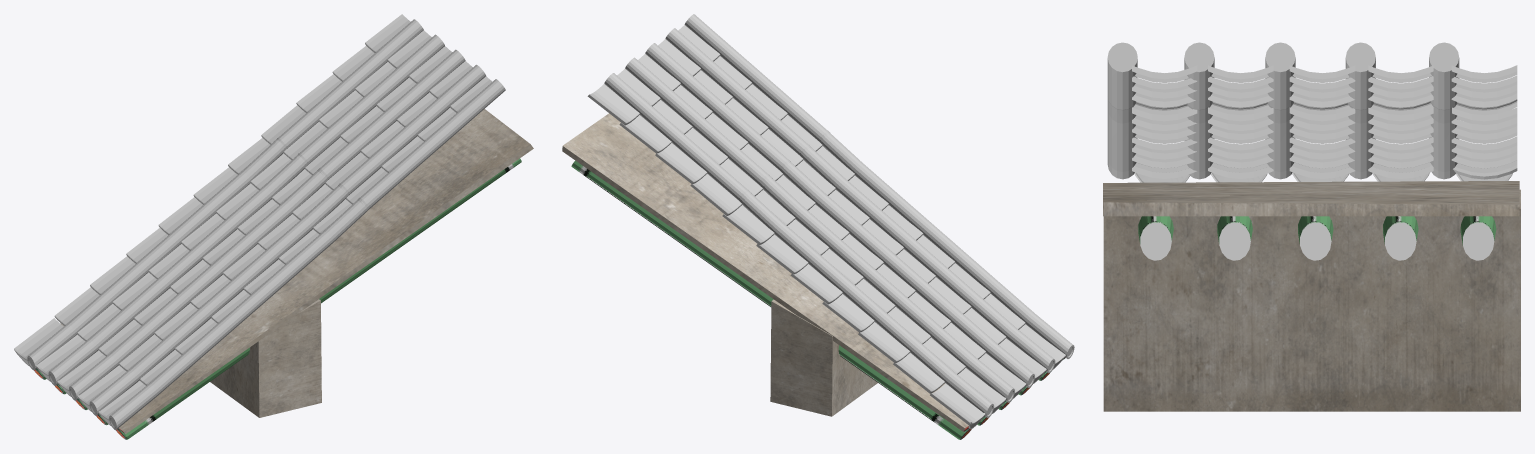
File: SM_Roof_18.fbx
3 renders of one model, left to right at view 1: azimuth 30°, elevation 25°; view 2: azimuth 150°, elevation 25°; view 3: azimuth 270°, elevation 25°, orthographic. The views are drawn at different scales.
Parts seen in each view (by area): view 1: SM_Roof_18; view 2: SM_Roof_18; view 3: SM_Roof_18.
Boxes of the visible parts, x1,y1,x2,y2 form: SM_Roof_18: [14, 14, 533, 439]; SM_Roof_18: [562, 14, 1074, 439]; SM_Roof_18: [1103, 42, 1520, 411].
Size of the model in its own units: 478 by 211 by 303.
